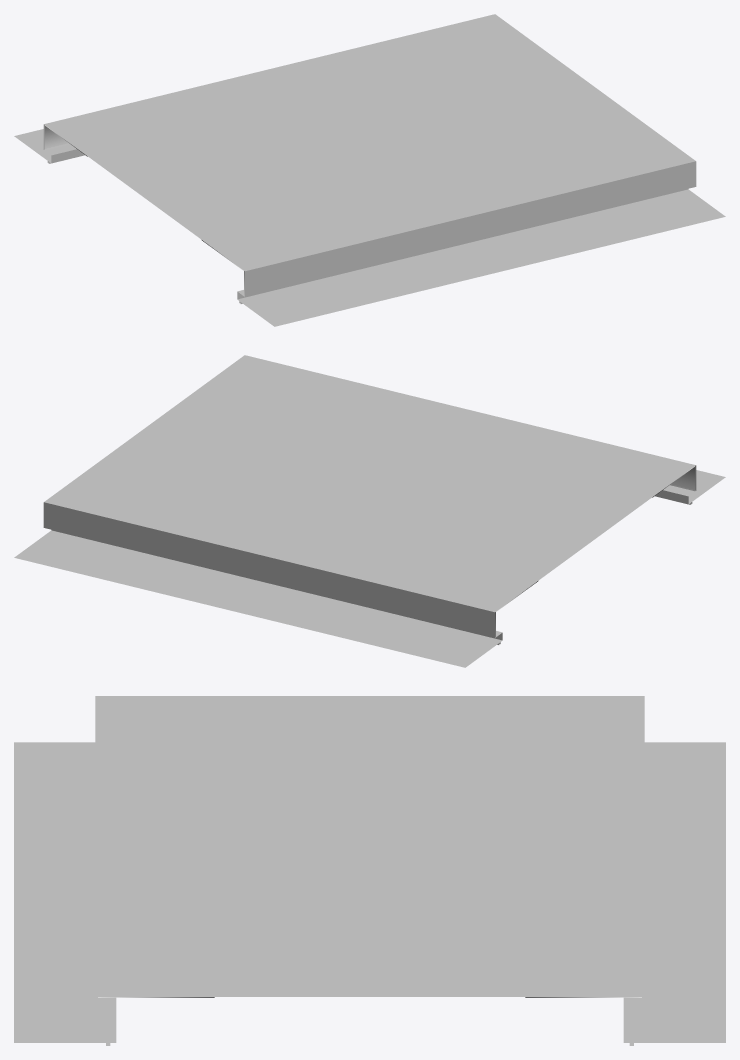
The model's file is Ceiling02_6_350x350cm.FBX.
3 views of the same model, one above another, from view 1: azimuth 30°, elevation 25°; view 2: azimuth 150°, elevation 25°; view 3: azimuth 270°, elevation 25° (orthographic). The views are drawn at different scales.
Parts seen in each view (by area): view 1: Ceiling; view 2: Ceiling; view 3: Ceiling.
Boxes of the visible parts, x1,y1,x2,y2 form: Ceiling: (14, 14, 725, 326); Ceiling: (14, 355, 725, 667); Ceiling: (14, 696, 725, 1042).
Size of the model in its own units: 350 by 26.5 by 350.
